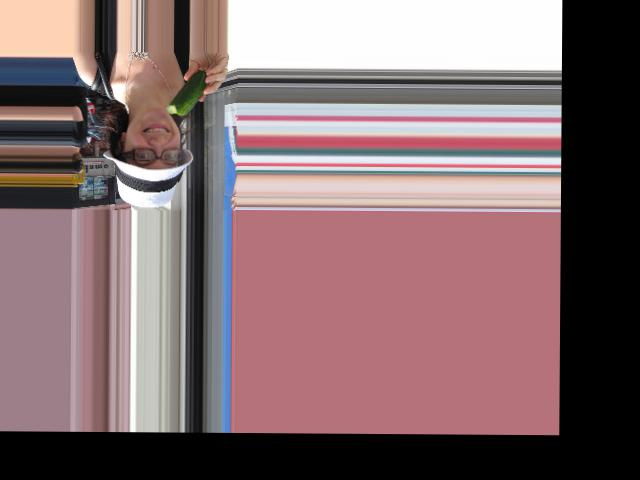cucumber: (167, 69, 208, 115)
